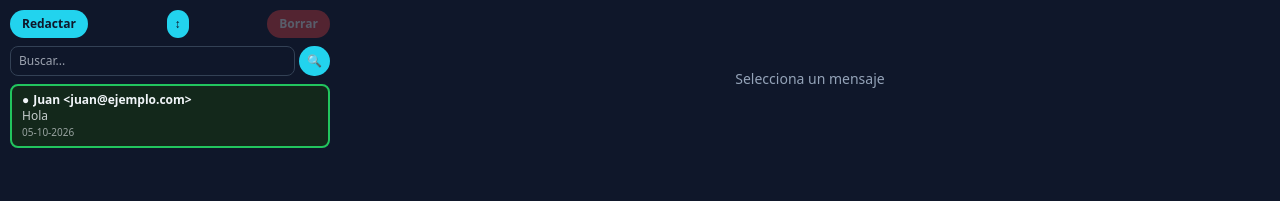
it: CorreoPage — borrar en servidor › sin credenciales (409) el mensaje se queda y se ve el motivo
Click the text "Juan <juan@ejemplo.com>" at (112, 100), box [33,92,192,108]
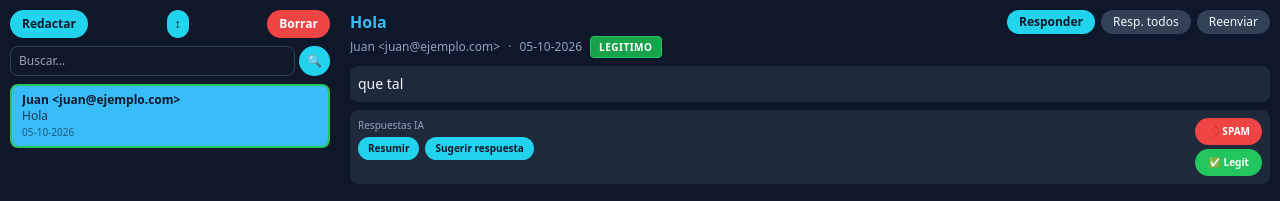
Click the button "Borrar" at (299, 24), box [267,10,330,38]
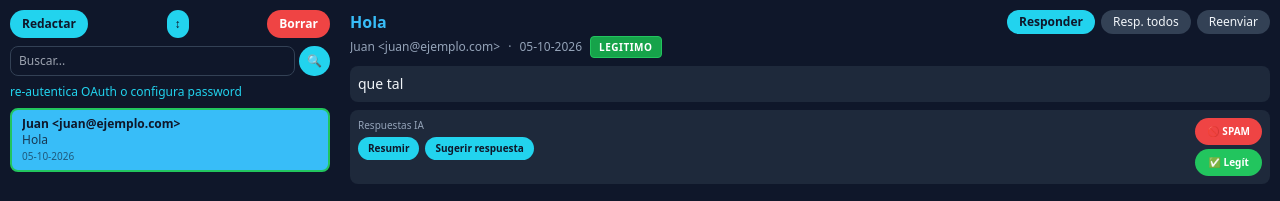
Expected: the text "Hola" is shown, [22,131,48,148]
Now the text "re-autentica OAuth o configura password" is shown, box [10,83,242,100]
